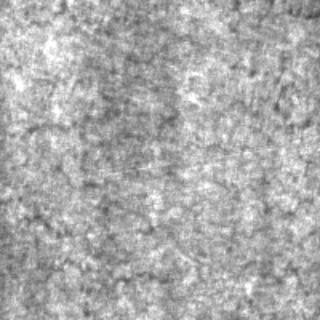crazing: (18, 71, 176, 315), (14, 0, 314, 81)
